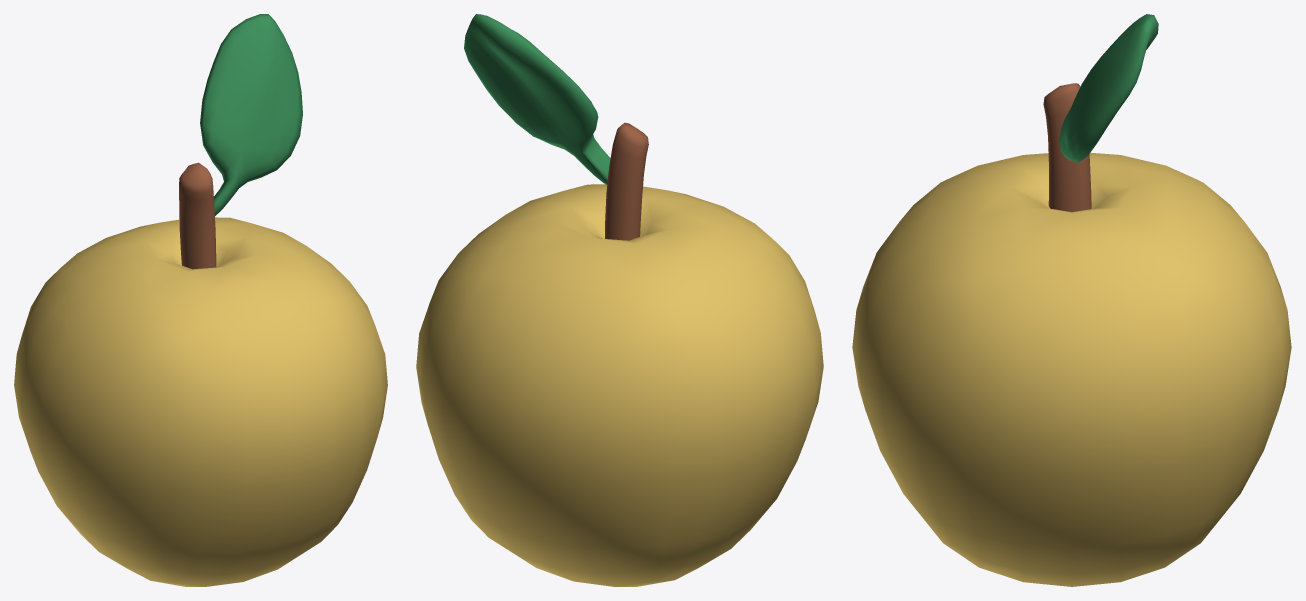
The model's file is Apple_03.dae.
3 views of the same model, side by side, from view 1: azimuth 30°, elevation 25°; view 2: azimuth 150°, elevation 25°; view 3: azimuth 270°, elevation 25° (orthographic). The views are drawn at different scales.
Parts seen in each view (by area): view 1: Apple_03_LOD0; view 2: Apple_03_LOD0; view 3: Apple_03_LOD0.
Boxes of the visible parts, x1,y1,x2,y2 form: Apple_03_LOD0: [14, 14, 387, 586]; Apple_03_LOD0: [416, 14, 823, 586]; Apple_03_LOD0: [852, 14, 1291, 586].
Size of what is drawn, in the model's own units: 4.02 by 4.02 by 6.01.
